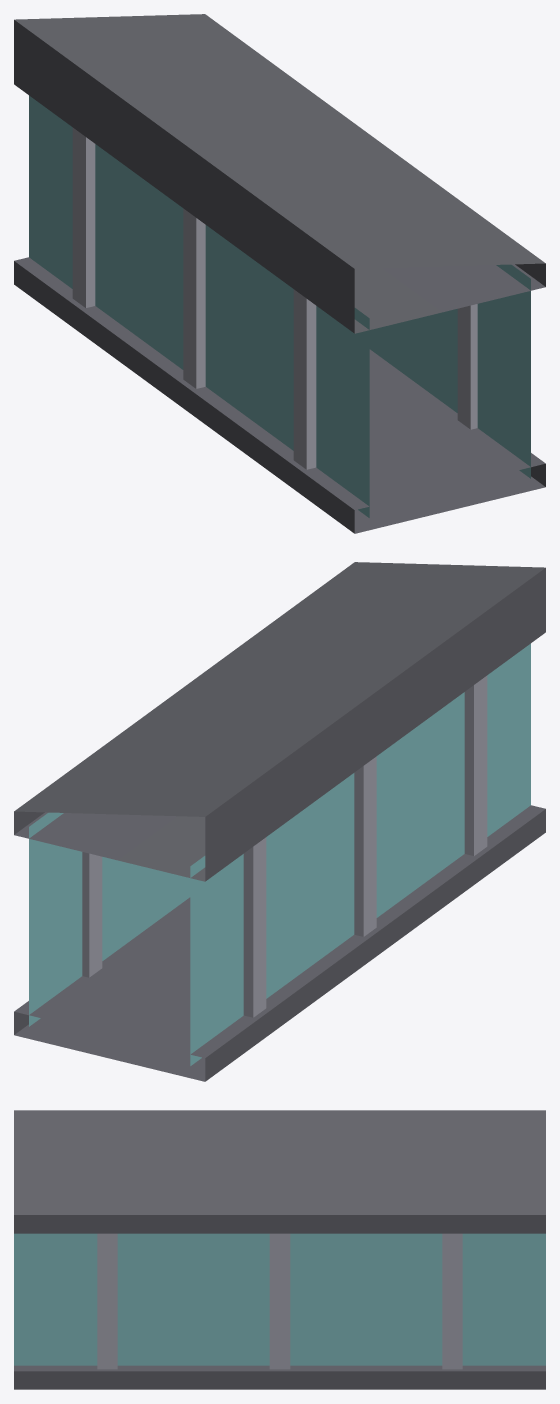
File: Walkway_BM.fbx
The picture shows the model from 3 angles, top to bottom: view 1: azimuth 30°, elevation 25°; view 2: azimuth 150°, elevation 25°; view 3: azimuth 270°, elevation 25°; orthographic projection. The views are drawn at different scales.
Parts seen in each view (by area): view 1: Walkway_BM; view 2: Walkway_BM; view 3: Walkway_BM.
Part boxes in pixels (x1,y1,x2,y2): Walkway_BM: [14, 14, 545, 533]; Walkway_BM: [14, 562, 545, 1081]; Walkway_BM: [14, 1110, 545, 1389].
Bounding box in the file's own units: 589 × 780 × 1819.
